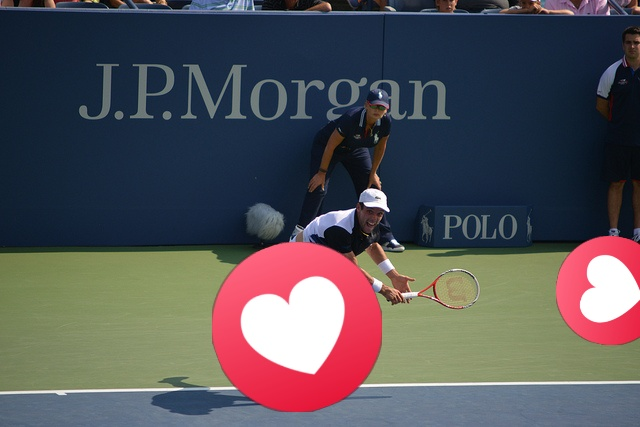love: (212, 242, 382, 412), (556, 236, 640, 345)
